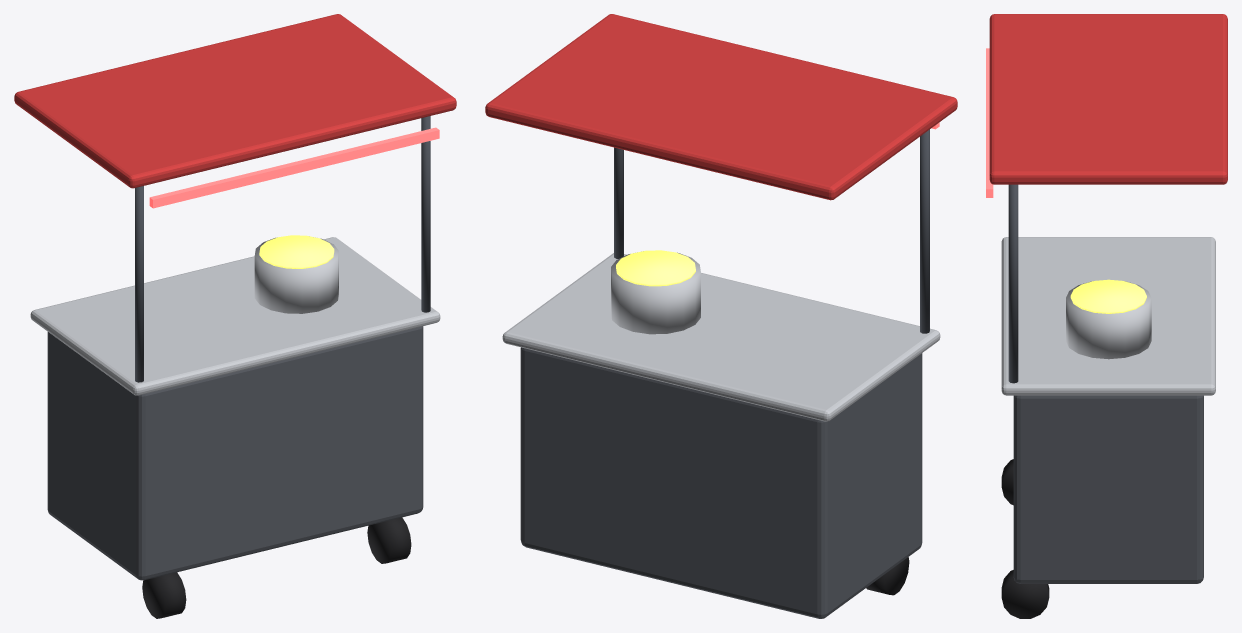
Rendered from noodle_stall_street_cart.glb.
3 views of the same model, side by side, from view 1: azimuth 30°, elevation 25°; view 2: azimuth 150°, elevation 25°; view 3: azimuth 270°, elevation 25° (orthographic). The views are drawn at different scales.
Parts seen in each view (by area): view 1: GD_noodle_stall_street_cart__m0, GD_noodle_stall_street_cart__m4, GD_noodle_stall_street_cart__m1, GD_noodle_stall_street_cart__m5, GD_noodle_stall_street_cart__m3, GD_noodle_stall_street_cart__m2, GD_noodle_stall_street_cart__m6; view 2: GD_noodle_stall_street_cart__m0, GD_noodle_stall_street_cart__m4, GD_noodle_stall_street_cart__m1, GD_noodle_stall_street_cart__m3, GD_noodle_stall_street_cart__m6, GD_noodle_stall_street_cart__m2; view 3: GD_noodle_stall_street_cart__m4, GD_noodle_stall_street_cart__m0, GD_noodle_stall_street_cart__m1, GD_noodle_stall_street_cart__m3, GD_noodle_stall_street_cart__m6, GD_noodle_stall_street_cart__m2, GD_noodle_stall_street_cart__m5.
Boxes of the visible parts, x1,y1,x2,y2 form: GD_noodle_stall_street_cart__m0: (47, 326, 423, 580); GD_noodle_stall_street_cart__m4: (14, 14, 456, 188); GD_noodle_stall_street_cart__m1: (30, 237, 440, 395); GD_noodle_stall_street_cart__m5: (149, 127, 439, 208); GD_noodle_stall_street_cart__m3: (135, 116, 430, 382); GD_noodle_stall_street_cart__m2: (142, 517, 411, 618); GD_noodle_stall_street_cart__m6: (259, 235, 334, 268); GD_noodle_stall_street_cart__m0: (520, 347, 922, 618); GD_noodle_stall_street_cart__m4: (485, 14, 957, 200); GD_noodle_stall_street_cart__m1: (502, 252, 940, 421); GD_noodle_stall_street_cart__m3: (614, 129, 929, 333); GD_noodle_stall_street_cart__m6: (616, 250, 695, 286); GD_noodle_stall_street_cart__m2: (866, 557, 909, 595); GD_noodle_stall_street_cart__m4: (989, 14, 1227, 184); GD_noodle_stall_street_cart__m0: (1013, 395, 1203, 583); GD_noodle_stall_street_cart__m1: (1001, 237, 1215, 395); GD_noodle_stall_street_cart__m3: (1008, 184, 1018, 383); GD_noodle_stall_street_cart__m6: (1070, 279, 1146, 313); GD_noodle_stall_street_cart__m2: (1001, 459, 1049, 618); GD_noodle_stall_street_cart__m5: (986, 48, 993, 197).
Bounding box in the file's own units: 1.6 × 2.16 × 1.01.
